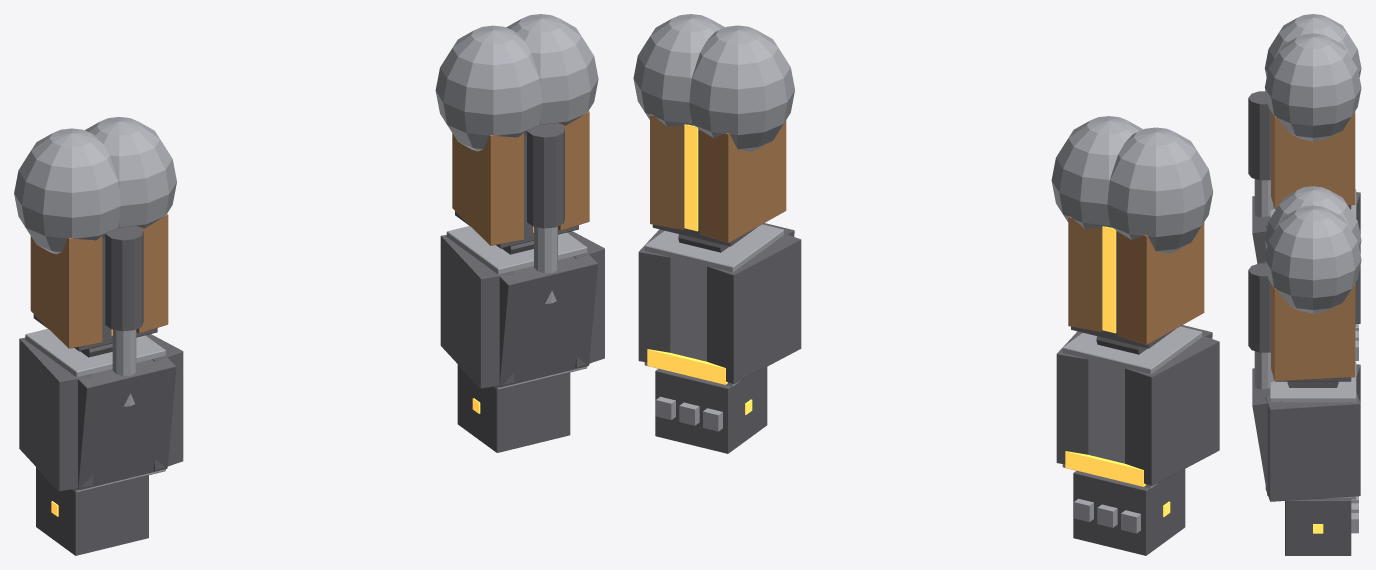
Rendered from rupture-maul.glb.
The picture shows the model from 3 angles, left to right: view 1: azimuth 30°, elevation 25°; view 2: azimuth 150°, elevation 25°; view 3: azimuth 270°, elevation 25°; orthographic projection. The views are drawn at different scales.
Parts seen in each view (by area): view 1: gchunk_b_l, gchunk_b_r, delt_b_l, delt_b_r, gchunk_r_l, gchunk_r_r, fist_l, fist_r, uchunk_r_r, uchunk_r_l, delt_a_r, delt_a_l (+11 smaller); view 2: gchunk_r_r, gchunk_r_l, delt_b_l, delt_b_r, uchunk_r_l, uchunk_r_r, fore_r, fore_l, fist_r, fist_l, delt_a_r, delt_a_l (+10 smaller); view 3: gchunk_l_l, delt_a_r, delt_a_l, uchunk_l_l, uchunk_l_r, fist_l, sleeve_l, sleeve_r, delt_b_l, delt_b_r, fore_l, gchunk_b_l (+9 smaller).
Part boxes in pixels (x1=…): gchunk_b_l: x1=498, y1=254, x2=597, y2=387; gchunk_b_r: x1=77, y1=357, x2=176, y2=490; delt_b_l: x1=435, y1=25, x2=542, y2=151; delt_b_r: x1=14, y1=128, x2=120, y2=254; gchunk_r_l: x1=440, y1=235, x2=514, y2=388; gchunk_r_r: x1=19, y1=337, x2=92, y2=491; fist_l: x1=457, y1=364, x2=570, y2=452; fist_r: x1=36, y1=467, x2=148, y2=555; uchunk_r_r: x1=30, y1=236, x2=102, y2=348; uchunk_r_l: x1=452, y1=133, x2=523, y2=245; delt_a_r: x1=85, y1=117, x2=176, y2=228; delt_a_l: x1=506, y1=14, x2=598, y2=125; gchunk_r_r: x1=1125, y1=335, x2=1219, y2=485; gchunk_r_l: x1=707, y1=233, x2=801, y2=383; delt_b_l: x1=689, y1=25, x2=794, y2=151; delt_b_r: x1=1107, y1=127, x2=1213, y2=253; uchunk_r_l: x1=699, y1=120, x2=786, y2=242; uchunk_r_r: x1=1117, y1=222, x2=1204, y2=344; fore_r: x1=1062, y1=326, x2=1202, y2=488; fore_l: x1=644, y1=224, x2=783, y2=386; fist_r: x1=1073, y1=469, x2=1185, y2=555; fist_l: x1=655, y1=367, x2=767, y2=453; delt_a_r: x1=1051, y1=116, x2=1142, y2=228; delt_a_l: x1=633, y1=14, x2=724, y2=126; gchunk_l_l: x1=1265, y1=392, x2=1360, y2=501; delt_a_r: x1=1264, y1=33, x2=1361, y2=141; delt_a_l: x1=1265, y1=205, x2=1361, y2=313; uchunk_l_l: x1=1271, y1=284, x2=1355, y2=381; uchunk_l_r: x1=1271, y1=111, x2=1355, y2=208; fist_l: x1=1285, y1=499, x2=1351, y2=555; sleeve_l: x1=1248, y1=263, x2=1270, y2=352; sleeve_r: x1=1248, y1=91, x2=1270, y2=180; delt_b_l: x1=1264, y1=186, x2=1361, y2=249; delt_b_r: x1=1264, y1=14, x2=1361, y2=77; fore_l: x1=1270, y1=361, x2=1356, y2=499; gchunk_b_l: x1=1252, y1=368, x2=1282, y2=495.
Bounding box in the file's own units: 1.08 × 0.7392 × 0.222.
